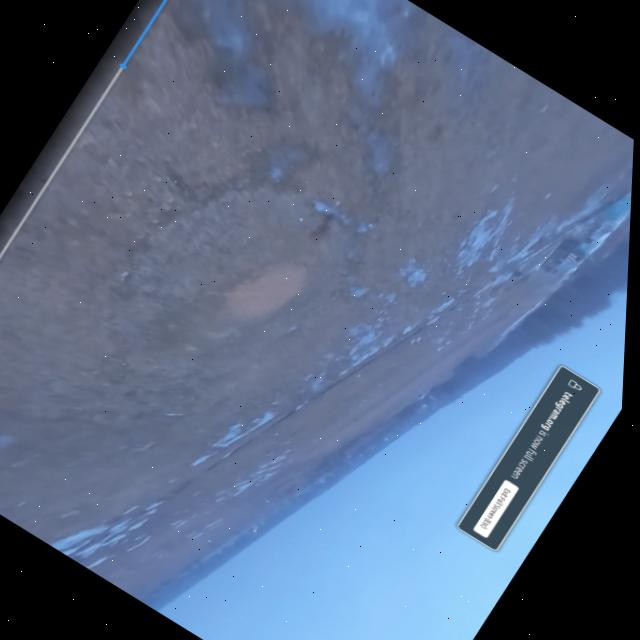planedrone: (412, 380, 440, 410)
